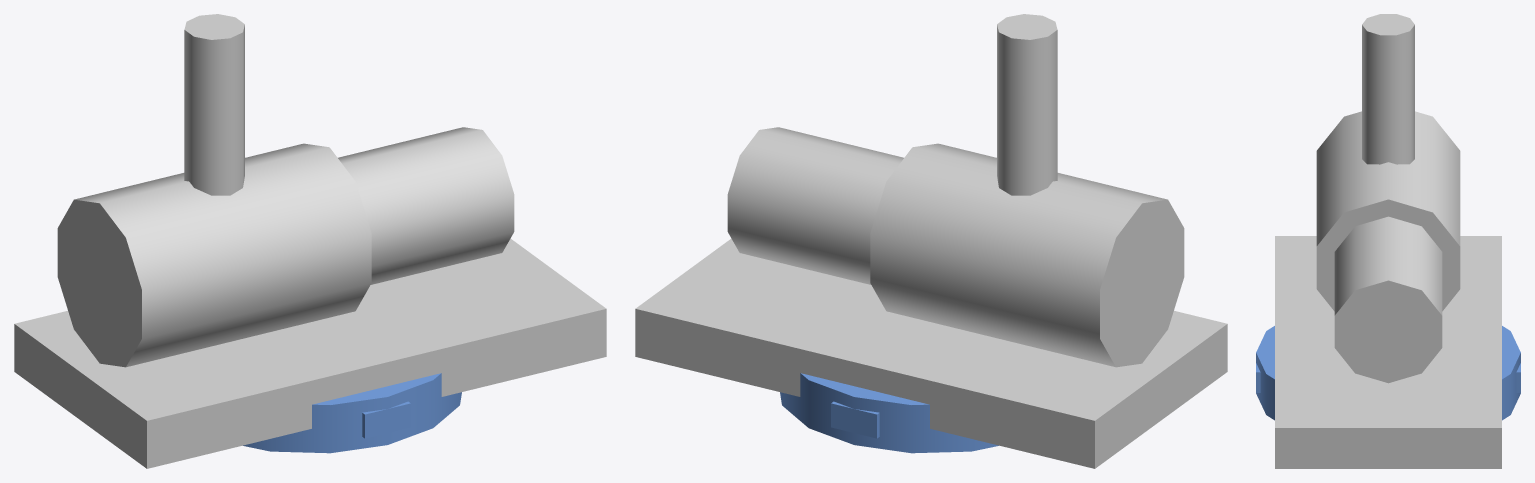
3 views of the same model, side by side, from view 1: azimuth 30°, elevation 25°; view 2: azimuth 150°, elevation 25°; view 3: azimuth 270°, elevation 25° (orthographic). The views are drawn at different scales.
Visible parts, largest first — view 1: part001, part002, part003, part004, visualRotor; view 2: part001, part002, part003, part004, visualRotor; view 3: part001, part003, part002, part004, visualRotor.
Part boxes in pixels (x1,y1,x2,y2): part001: [14, 238, 606, 468]; part002: [57, 143, 371, 367]; part003: [338, 127, 514, 284]; part004: [184, 14, 244, 195]; visualRotor: [243, 373, 461, 453]; part001: [635, 238, 1227, 468]; part002: [870, 143, 1184, 367]; part003: [727, 127, 903, 284]; part004: [997, 14, 1057, 195]; visualRotor: [780, 373, 998, 453]; part001: [1275, 236, 1501, 468]; part003: [1334, 216, 1442, 383]; part002: [1316, 111, 1460, 311]; part004: [1362, 14, 1414, 164]; visualRotor: [1256, 326, 1520, 420].
Bounding box in the file's own units: 1.2 × 0.96 × 0.7.
